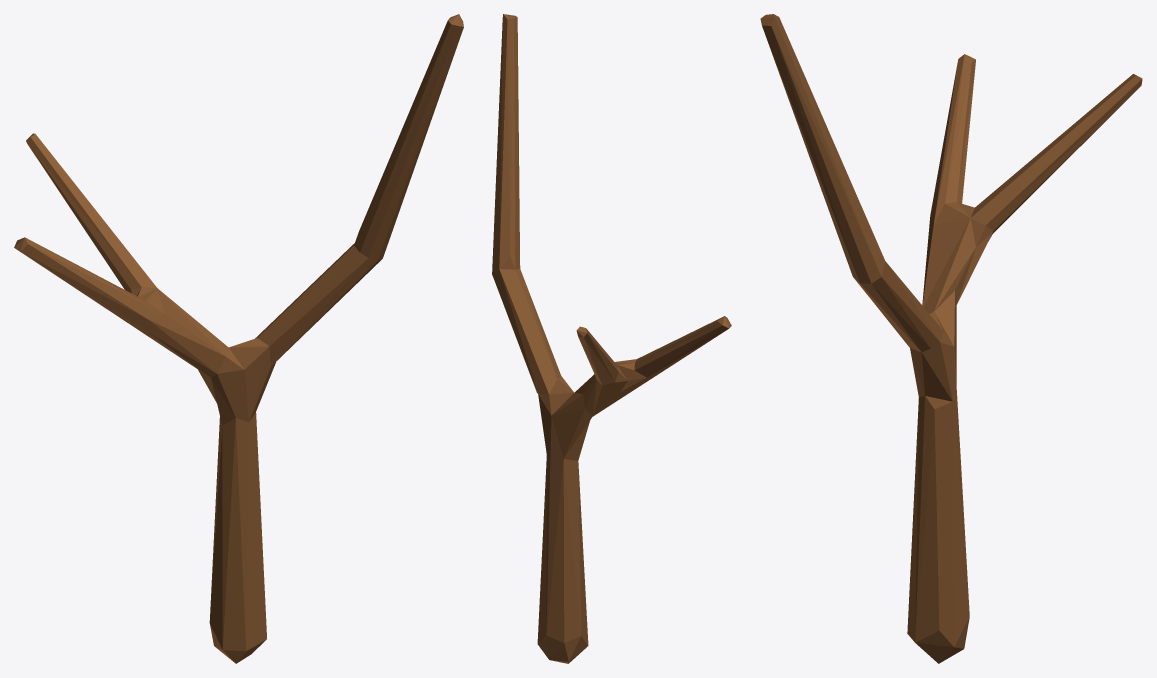
The model's file is wood.fbx.
3 renders of one model, left to right at view 1: azimuth 30°, elevation 25°; view 2: azimuth 150°, elevation 25°; view 3: azimuth 270°, elevation 25°, orthographic. The views are drawn at different scales.
Visible parts, largest first — view 1: Wood; view 2: Wood; view 3: Wood.
Boxes of the visible parts, x1,y1,x2,y2 form: Wood: (14, 14, 463, 663); Wood: (492, 14, 731, 663); Wood: (760, 14, 1142, 663).
Bounding box in the file's own units: 113 × 202 × 96.89.
